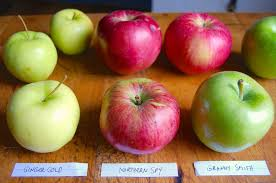apple: (193, 72, 271, 153), (101, 78, 177, 151), (98, 11, 161, 75), (11, 85, 78, 145), (169, 16, 232, 70), (5, 31, 60, 82), (49, 9, 94, 57), (240, 18, 274, 71)
